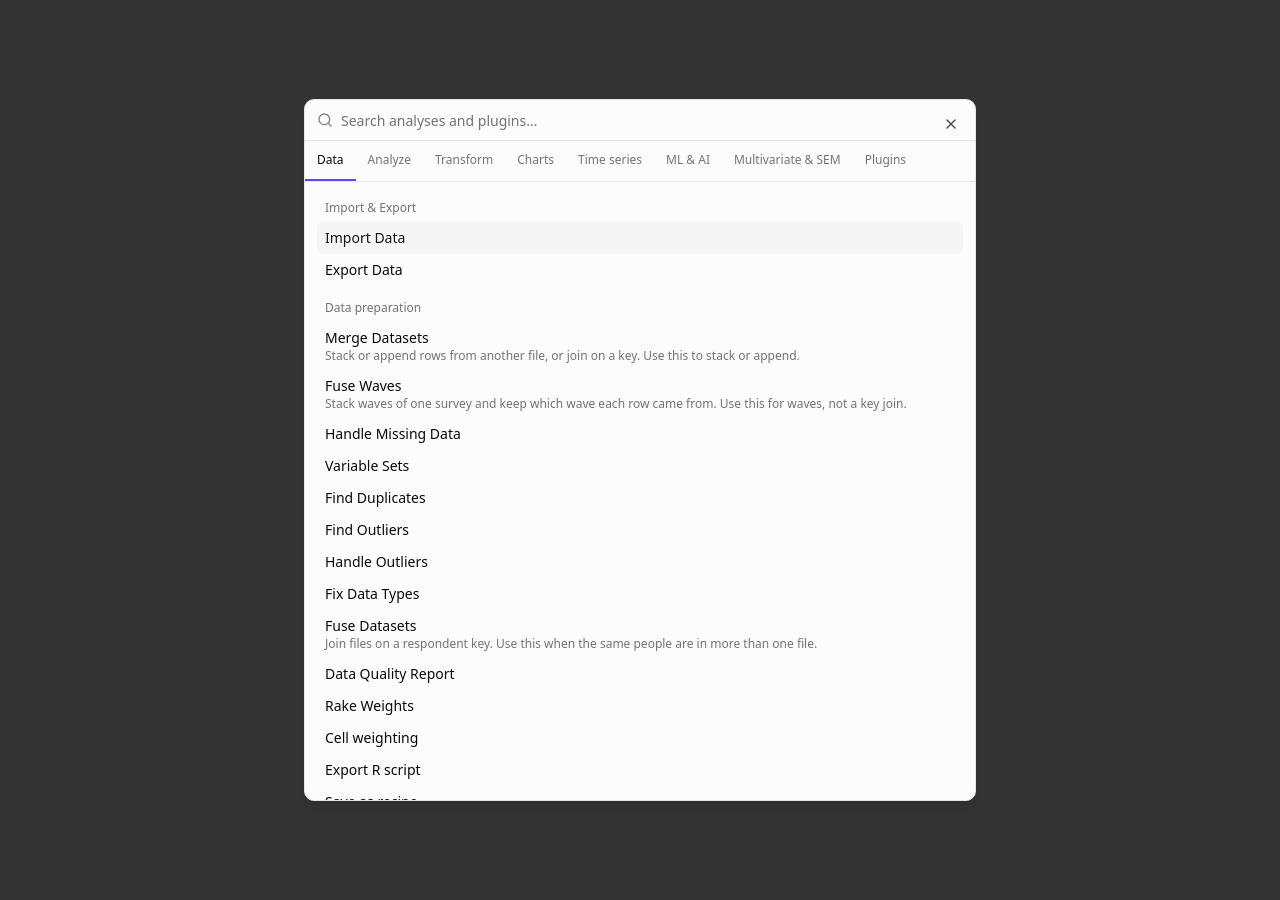
Test: analysis command palette › filters the list to Pivot table when the search is pivot
Type "pivot" into the dropdown with placeholder "Search analyses and plugins…" at (652, 120), box [341,100,963,140]
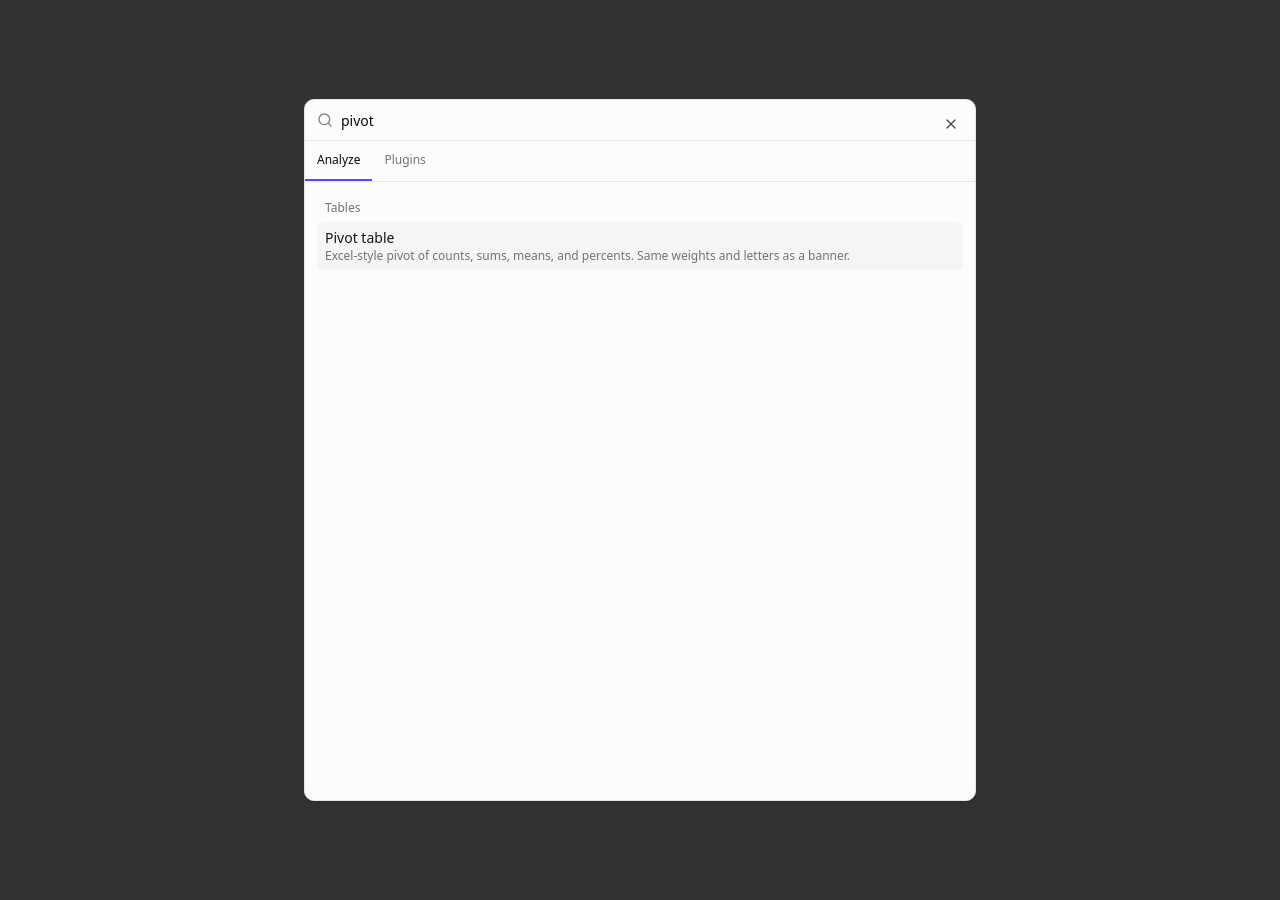
Expected: the option "Pivot table" is shown, [317,222,963,270]
Expected: the option "Merge Datasets" is gone
